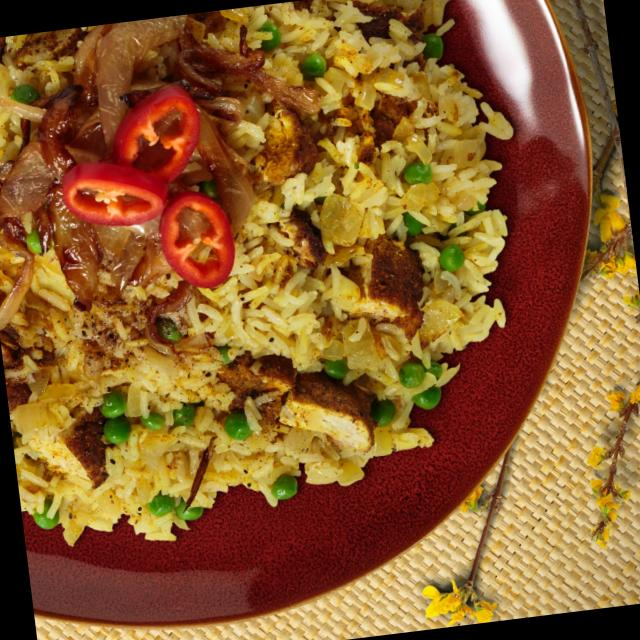Biryani: (0, 0, 559, 557)
